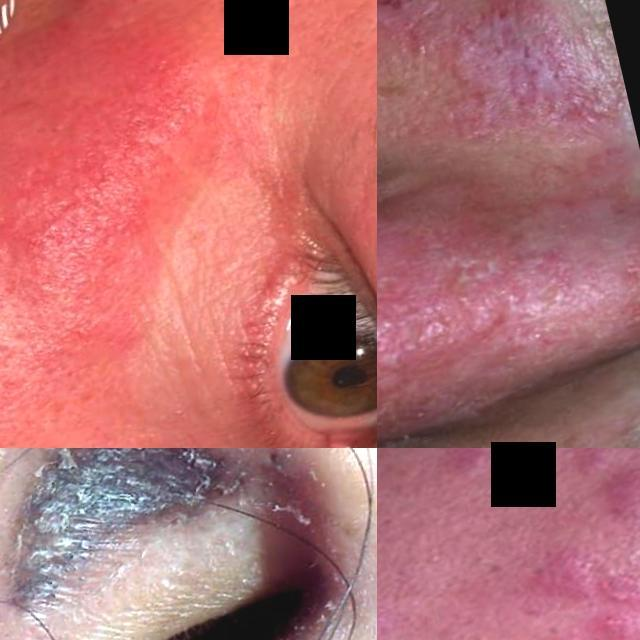lupus-detected: (0, 0, 377, 437), (377, 182, 640, 448), (0, 448, 326, 640), (377, 0, 640, 226), (377, 448, 640, 640)
